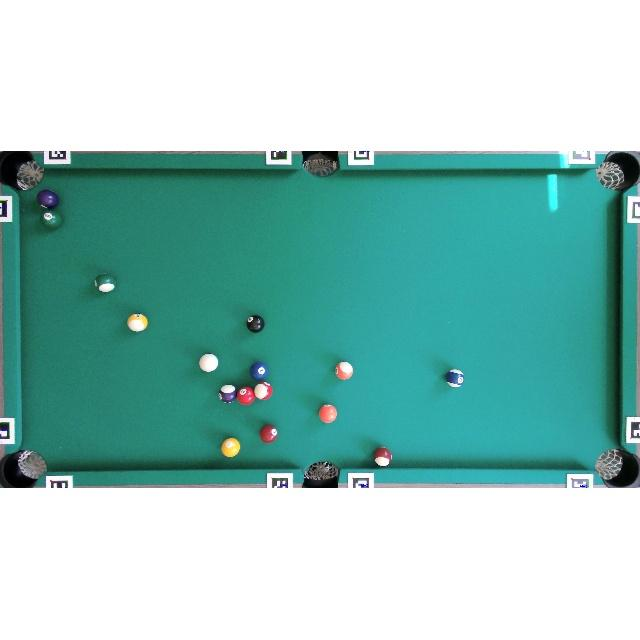cue ball: (199, 354, 218, 372)
other: (40, 209, 63, 229), (37, 189, 59, 209), (221, 438, 241, 458), (94, 274, 116, 292), (253, 381, 273, 400), (218, 384, 237, 404), (127, 313, 147, 332), (373, 448, 392, 467), (445, 369, 464, 388), (260, 424, 278, 444), (319, 404, 337, 424), (237, 386, 255, 405), (250, 362, 268, 381), (247, 315, 264, 333), (335, 362, 353, 379)
